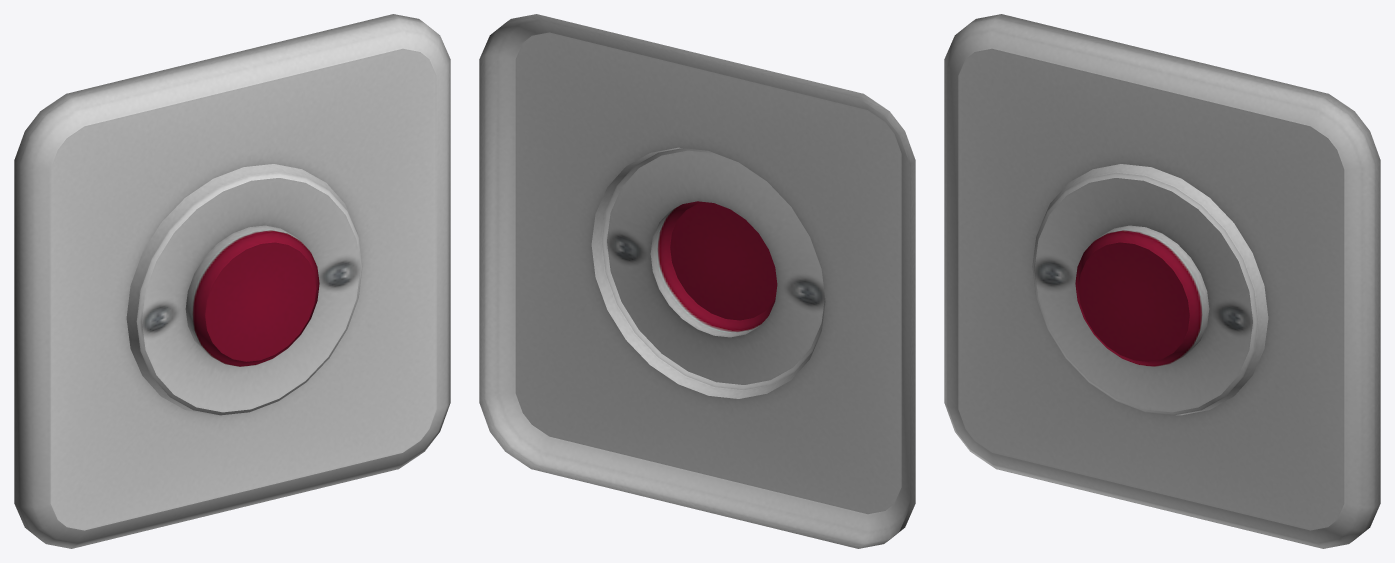
File: switch_round_button.fbx
The picture shows the model from 3 angles, left to right: view 1: azimuth 30°, elevation 25°; view 2: azimuth 150°, elevation 25°; view 3: azimuth 330°, elevation 25°; orthographic projection.
Visible parts, largest first — view 1: switch_round_button; view 2: switch_round_button; view 3: switch_round_button.
Boxes of the visible parts, x1,y1,x2,y2 form: switch_round_button: (14,14,450,548); switch_round_button: (479,14,915,548); switch_round_button: (944,14,1380,548).
Size of the model in its own units: 7.03 by 7.03 by 0.8791.
